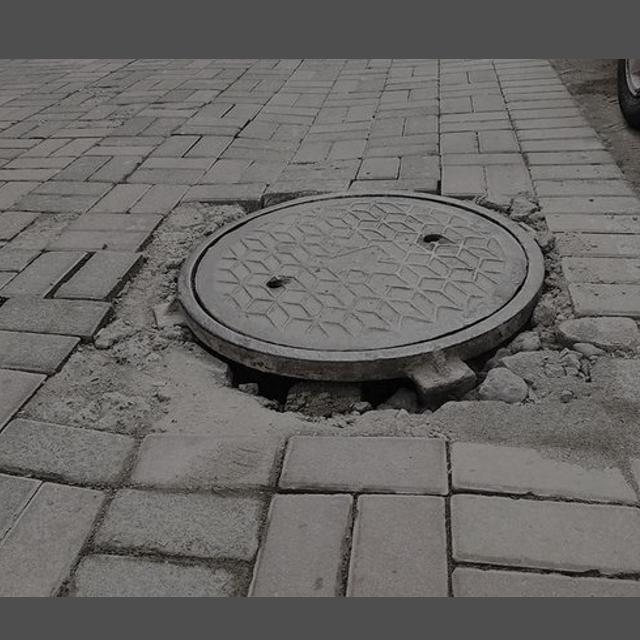circle: (40, 175, 613, 469)
